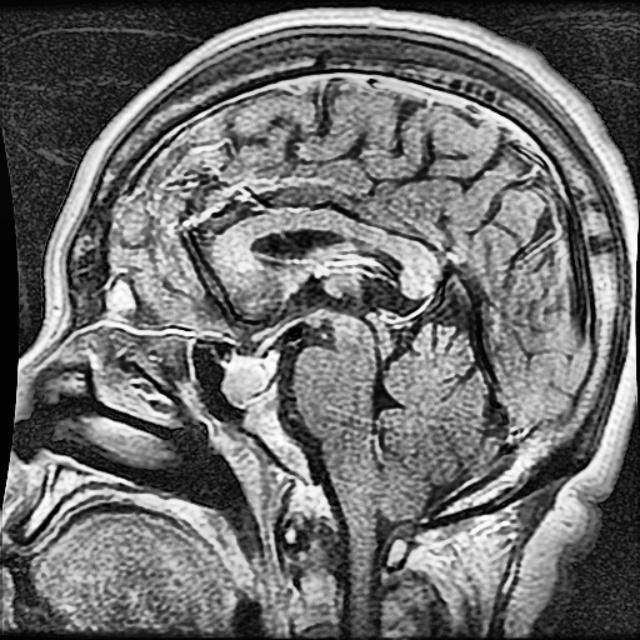Pituitary: (225, 350, 278, 398)
